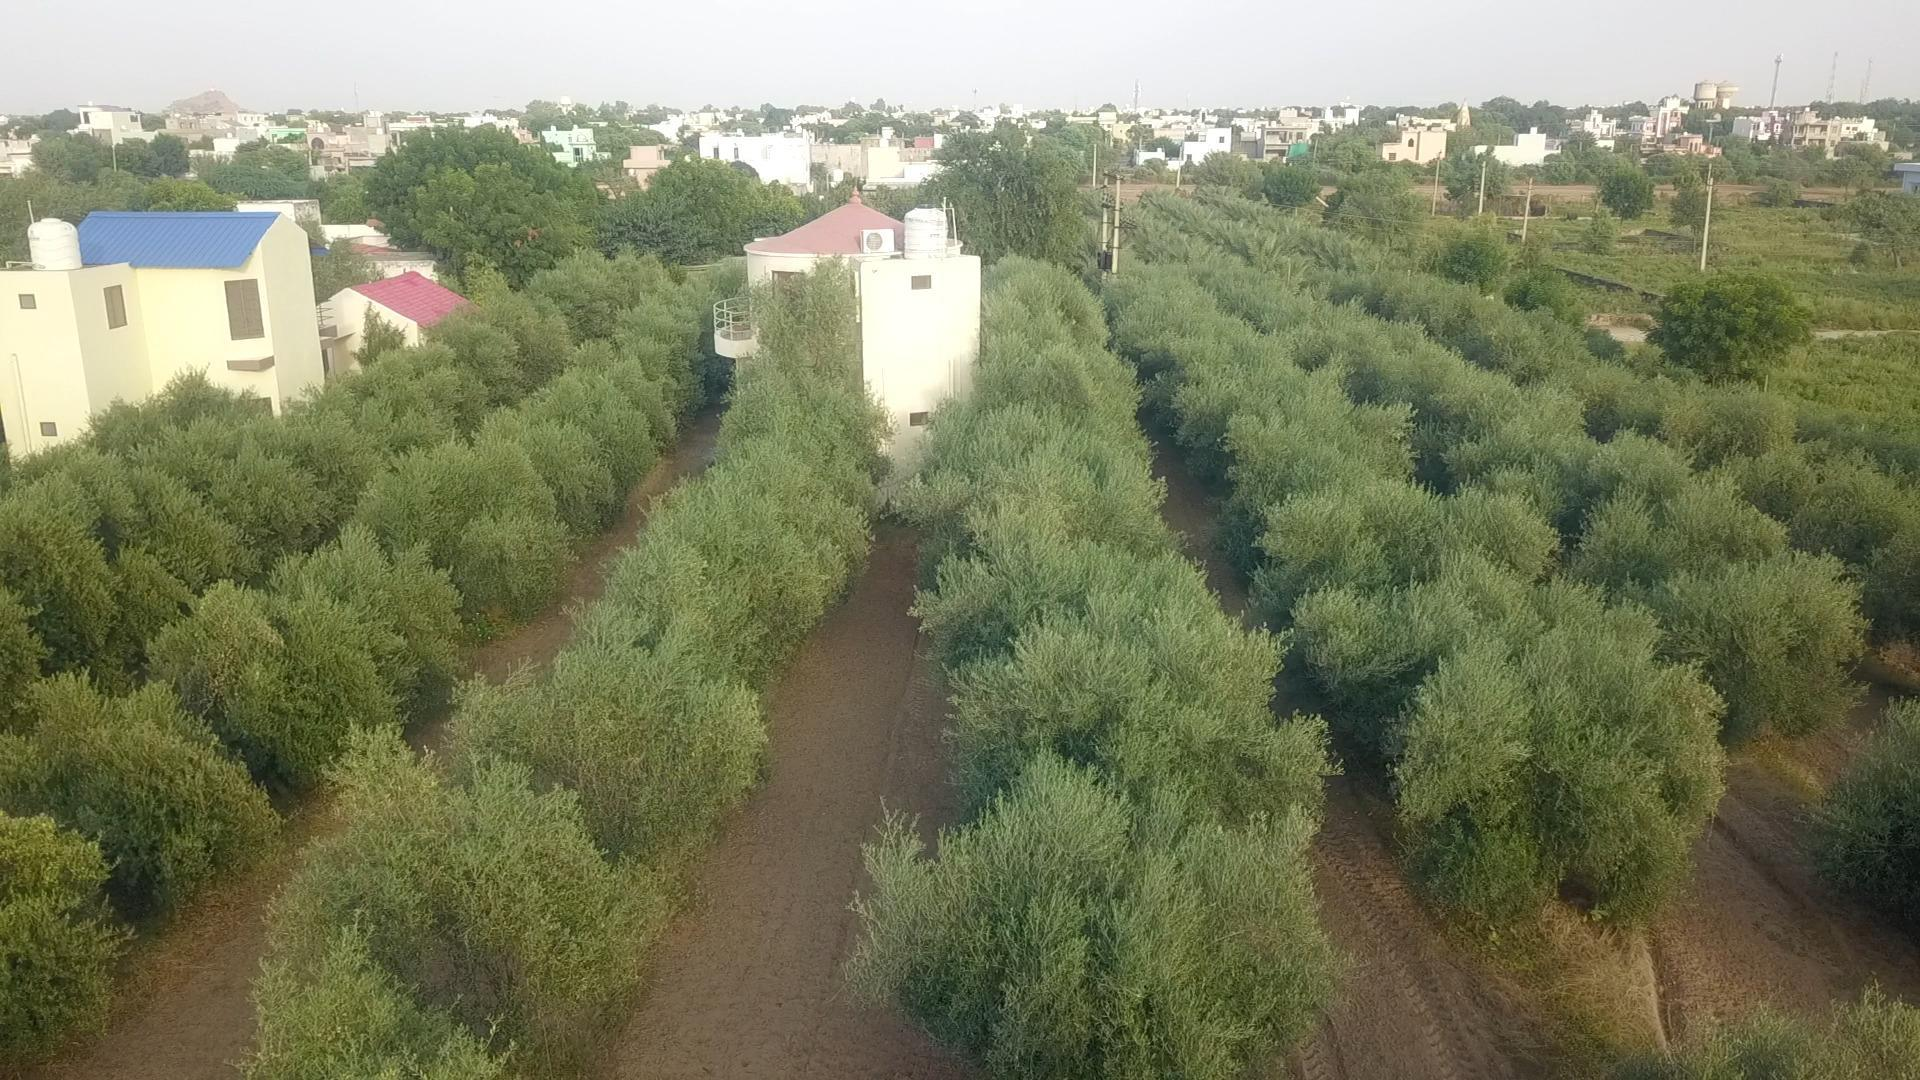canopy: (0, 295, 698, 1058), (256, 270, 884, 1076), (1105, 264, 1722, 919), (852, 257, 1338, 1079)
road: (1143, 414, 1557, 1079), (603, 527, 975, 1079), (1648, 753, 1919, 1044), (59, 924, 264, 1079)
